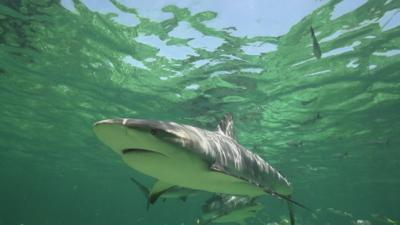Shark -Selachimorpha-: (89, 105, 328, 224)
